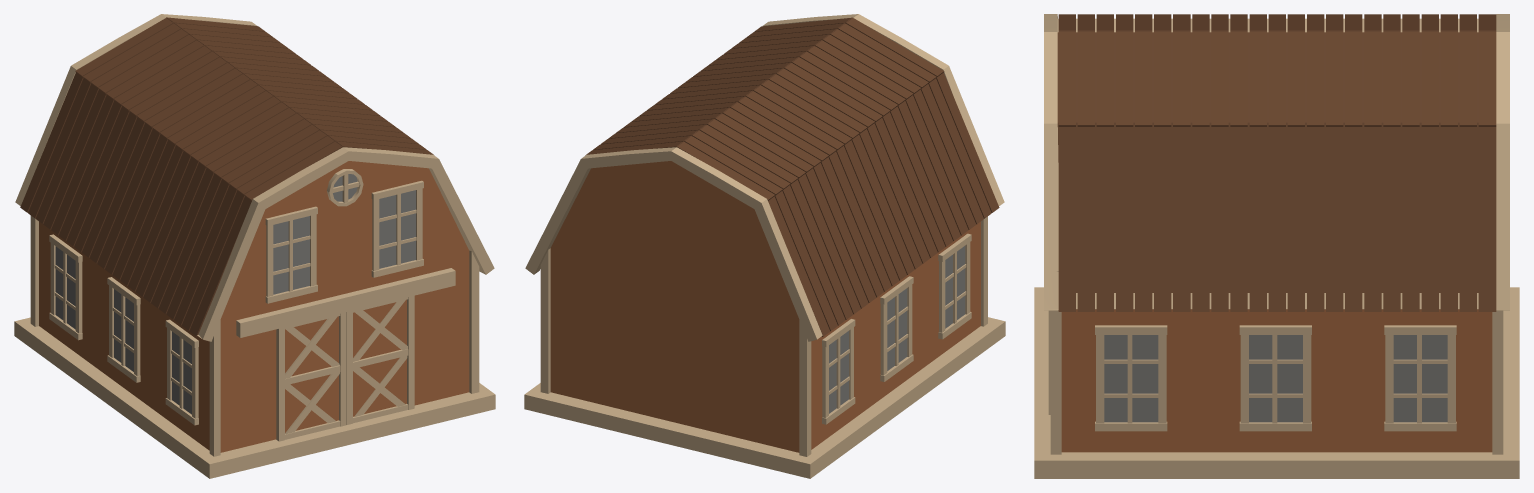
The model's file is Barn.fbx.
The picture shows the model from 3 angles, left to right: view 1: azimuth 30°, elevation 25°; view 2: azimuth 150°, elevation 25°; view 3: azimuth 270°, elevation 25°; orthographic projection. The views are drawn at different scales.
Visible parts, largest first — view 1: Barn; view 2: Barn; view 3: Barn.
Part boxes in pixels (x1,y1,x2,y2): Barn: (14,14,495,478); Barn: (524,14,1005,478); Barn: (1034,14,1519,478).
Size of the model in its own units: 409 by 387 by 471.
